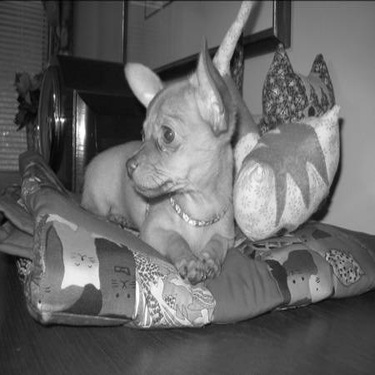dog: (69, 4, 257, 286)
